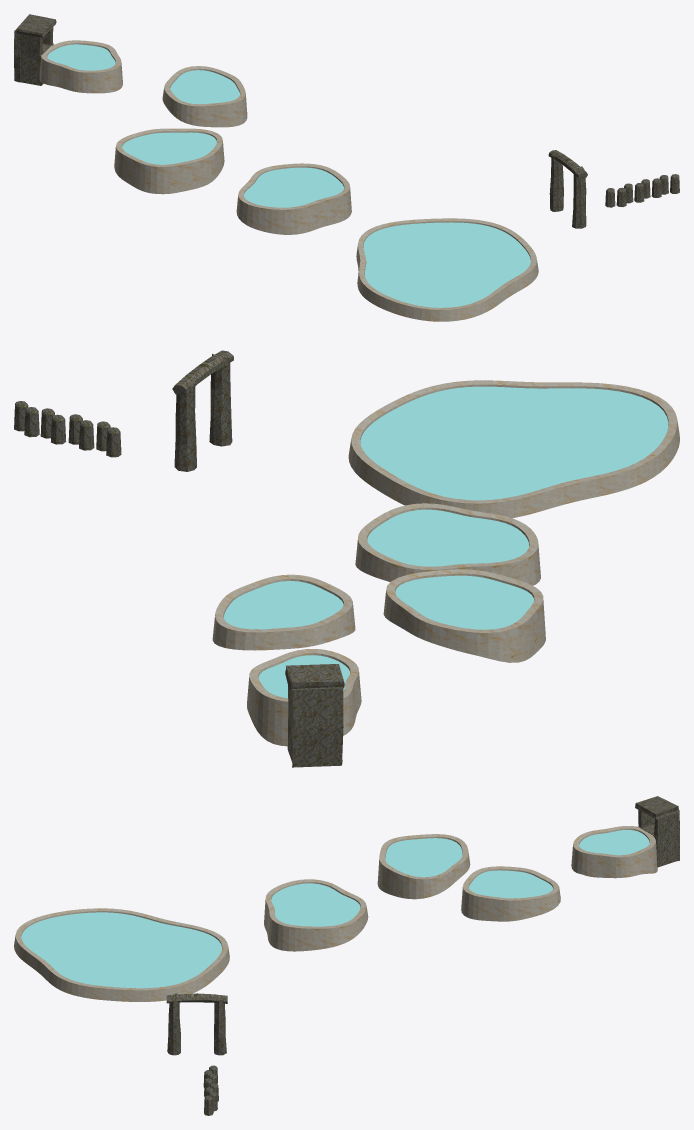
The model's file is springs.glb.
3 renders of one model, top to bottom at view 1: azimuth 30°, elevation 25°; view 2: azimuth 150°, elevation 25°; view 3: azimuth 270°, elevation 25°, orthographic. The views are drawn at different scales.
Visible parts, largest first — view 1: LagoonWater, Pool1Water, Pool2Water, Pool3Water, Pool4Water, GrottoSideL, Pool2Rim08, GatePillarR, Pool1Rim09, GatePillarL, Pool2Rim09, Pool1Rim10 (+12 smaller); view 2: LagoonWater, Pool1Water, Pool2Water, Pool3Water, GrottoBack, GatePillarR, GatePillarL, GrottoRoof, Pool4Water, Pool2Rim05, Pool2Rim06, Pool4Rim03 (+16 smaller); view 3: LagoonWater, Pool1Water, Pool2Water, Pool3Water, Pool4Water, GrottoSideR, GatePillarR, GrottoRoof, Pool1Rim14, GatePillarL, Pool2Rim12, Pool1Rim01 (+7 smaller).
Part boxes in pixels (<box>): LagoonWater: <box>363,222,530,307</box>; Pool1Water: <box>244,167,343,207</box>; Pool2Water: <box>122,132,216,164</box>; Pool3Water: <box>170,70,239,104</box>; Pool4Water: <box>47,44,115,70</box>; GrottoSideL: <box>19,33,42,83</box>; Pool2Rim08: <box>144,163,170,194</box>; GatePillarR: <box>572,166,586,228</box>; Pool1Rim09: <box>258,206,285,234</box>; GatePillarL: <box>549,154,563,211</box>; Pool2Rim09: <box>170,161,192,193</box>; Pool1Rim10: <box>284,204,308,234</box>; LagoonWater: <box>360,386,668,500</box>; Pool1Water: <box>367,509,529,566</box>; Pool2Water: <box>395,575,533,629</box>; Pool3Water: <box>224,581,343,629</box>; GrottoBack: <box>292,687,343,767</box>; GatePillarR: <box>209,351,232,446</box>; GatePillarL: <box>174,376,196,471</box>; GrottoRoof: <box>285,664,344,690</box>; Pool4Water: <box>258,655,349,698</box>; Pool2Rim05: <box>467,627,509,662</box>; Pool2Rim06: <box>504,614,534,662</box>; Pool4Rim03: <box>254,687,279,743</box>; LagoonWater: <box>21,912,221,988</box>; Pool1Water: <box>271,883,360,926</box>; Pool2Water: <box>385,838,462,877</box>; Pool3Water: <box>469,870,552,898</box>; Pool4Water: <box>579,830,649,855</box>; GrottoSideR: <box>654,814,677,867</box>; GatePillarR: <box>167,993,180,1055</box>; GrottoRoof: <box>635,796,678,819</box>; Pool1Rim14: <box>288,925,313,951</box>; GatePillarL: <box>214,994,226,1055</box>; Pool2Rim12: <box>397,872,423,899</box>; Pool1Rim01: <box>314,925,339,950</box>.
Bounding box in the file's own units: 151 × 34.26 × 194.
3 materials, 2 textured.
